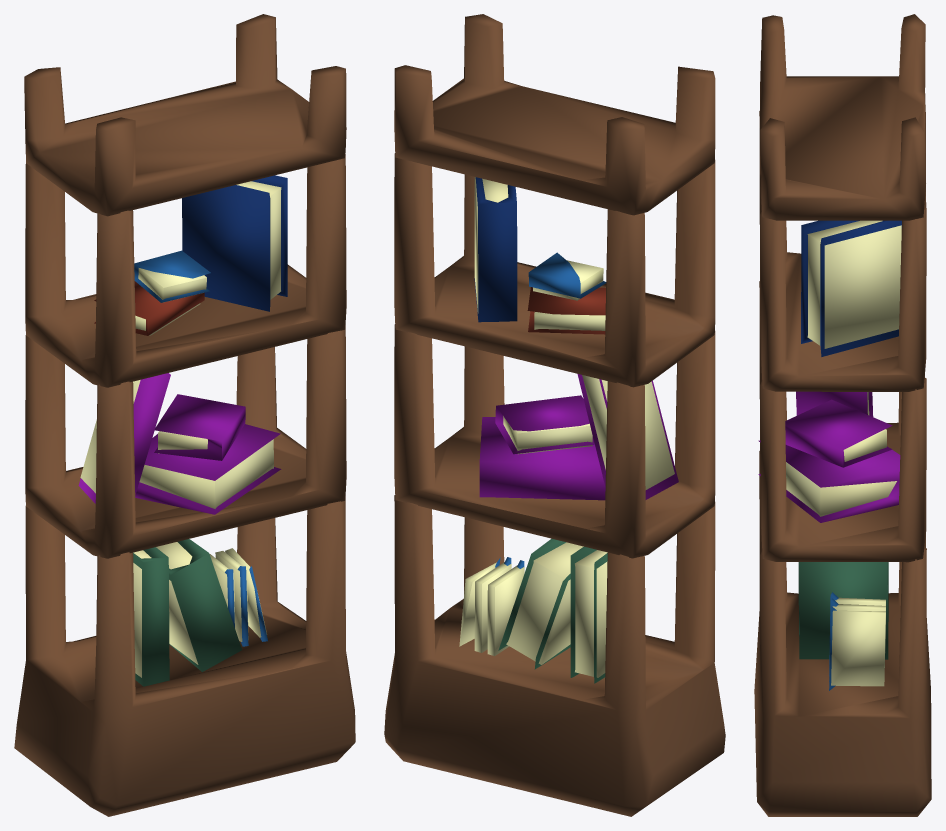
Rendered from bookshelf.glb.
3 renders of one model, left to right at view 1: azimuth 30°, elevation 25°; view 2: azimuth 150°, elevation 25°; view 3: azimuth 270°, elevation 25°, orthographic.
Visible parts, largest first — view 1: Bookshelf; view 2: Bookshelf; view 3: Bookshelf.
Boxes of the visible parts, box(x1,y1,x2,y2) form: Bookshelf: box(14, 14, 355, 816); Bookshelf: box(384, 14, 725, 816); Bookshelf: box(754, 14, 931, 816).
Size of what is drawn, in the model's own units: 4.16 by 10.26 by 2.4.
1 material, 1 textured.
